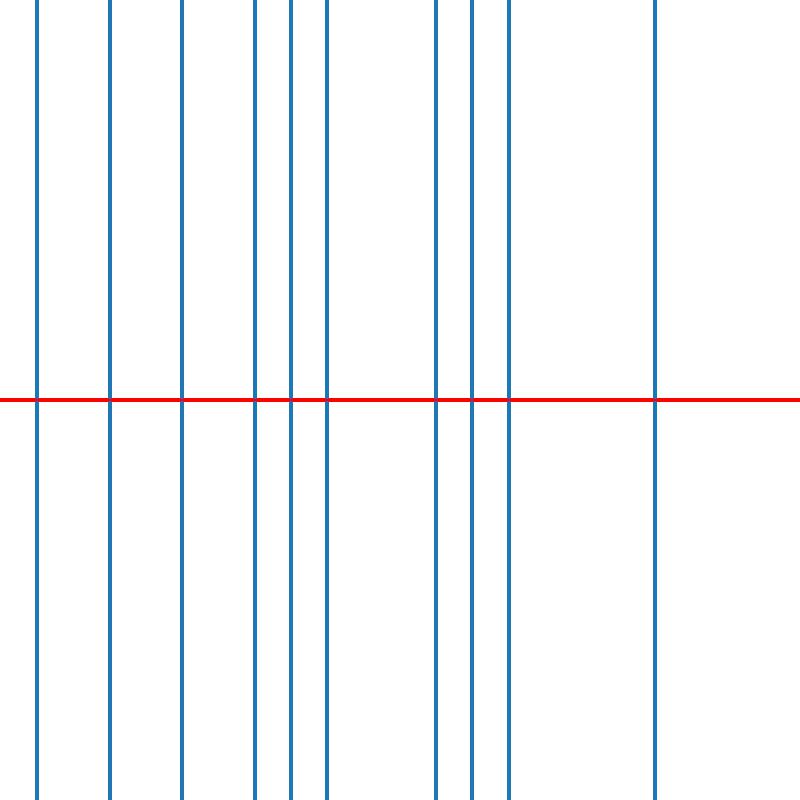root: (250, 396, 258, 404), (32, 396, 40, 404), (432, 396, 440, 404), (650, 396, 658, 404), (105, 396, 112, 404), (178, 396, 185, 404), (323, 396, 330, 404), (469, 396, 476, 404), (505, 396, 512, 404), (287, 396, 294, 404)
